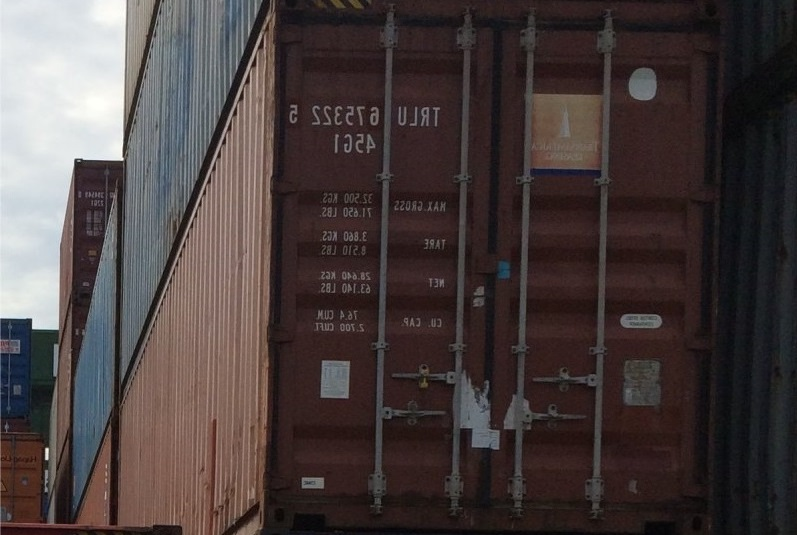container_door: (278, 19, 706, 524)
